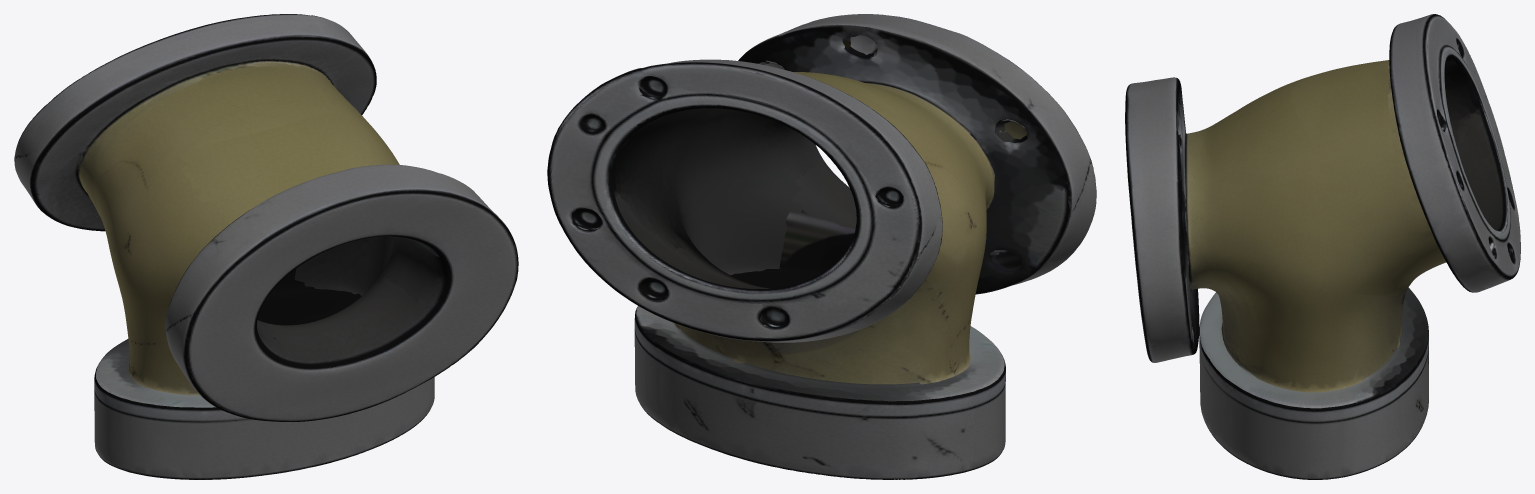
Rendered from feature-pipe-elbow.glb.
3 renders of one model, left to right at view 1: azimuth 30°, elevation 25°; view 2: azimuth 150°, elevation 25°; view 3: azimuth 270°, elevation 25°, orthographic. The views are drawn at different scales.
Parts seen in each view (by area): view 1: tmpkaqwf7hn.ply; view 2: tmpkaqwf7hn.ply; view 3: tmpkaqwf7hn.ply.
Boxes of the visible parts, <box> form: tmpkaqwf7hn.ply: <box>14,14,518,479</box>; tmpkaqwf7hn.ply: <box>547,14,1096,479</box>; tmpkaqwf7hn.ply: <box>1125,14,1520,479</box>.
Size of the model in its own units: 1 by 1 by 1.
1 material, 1 textured.
